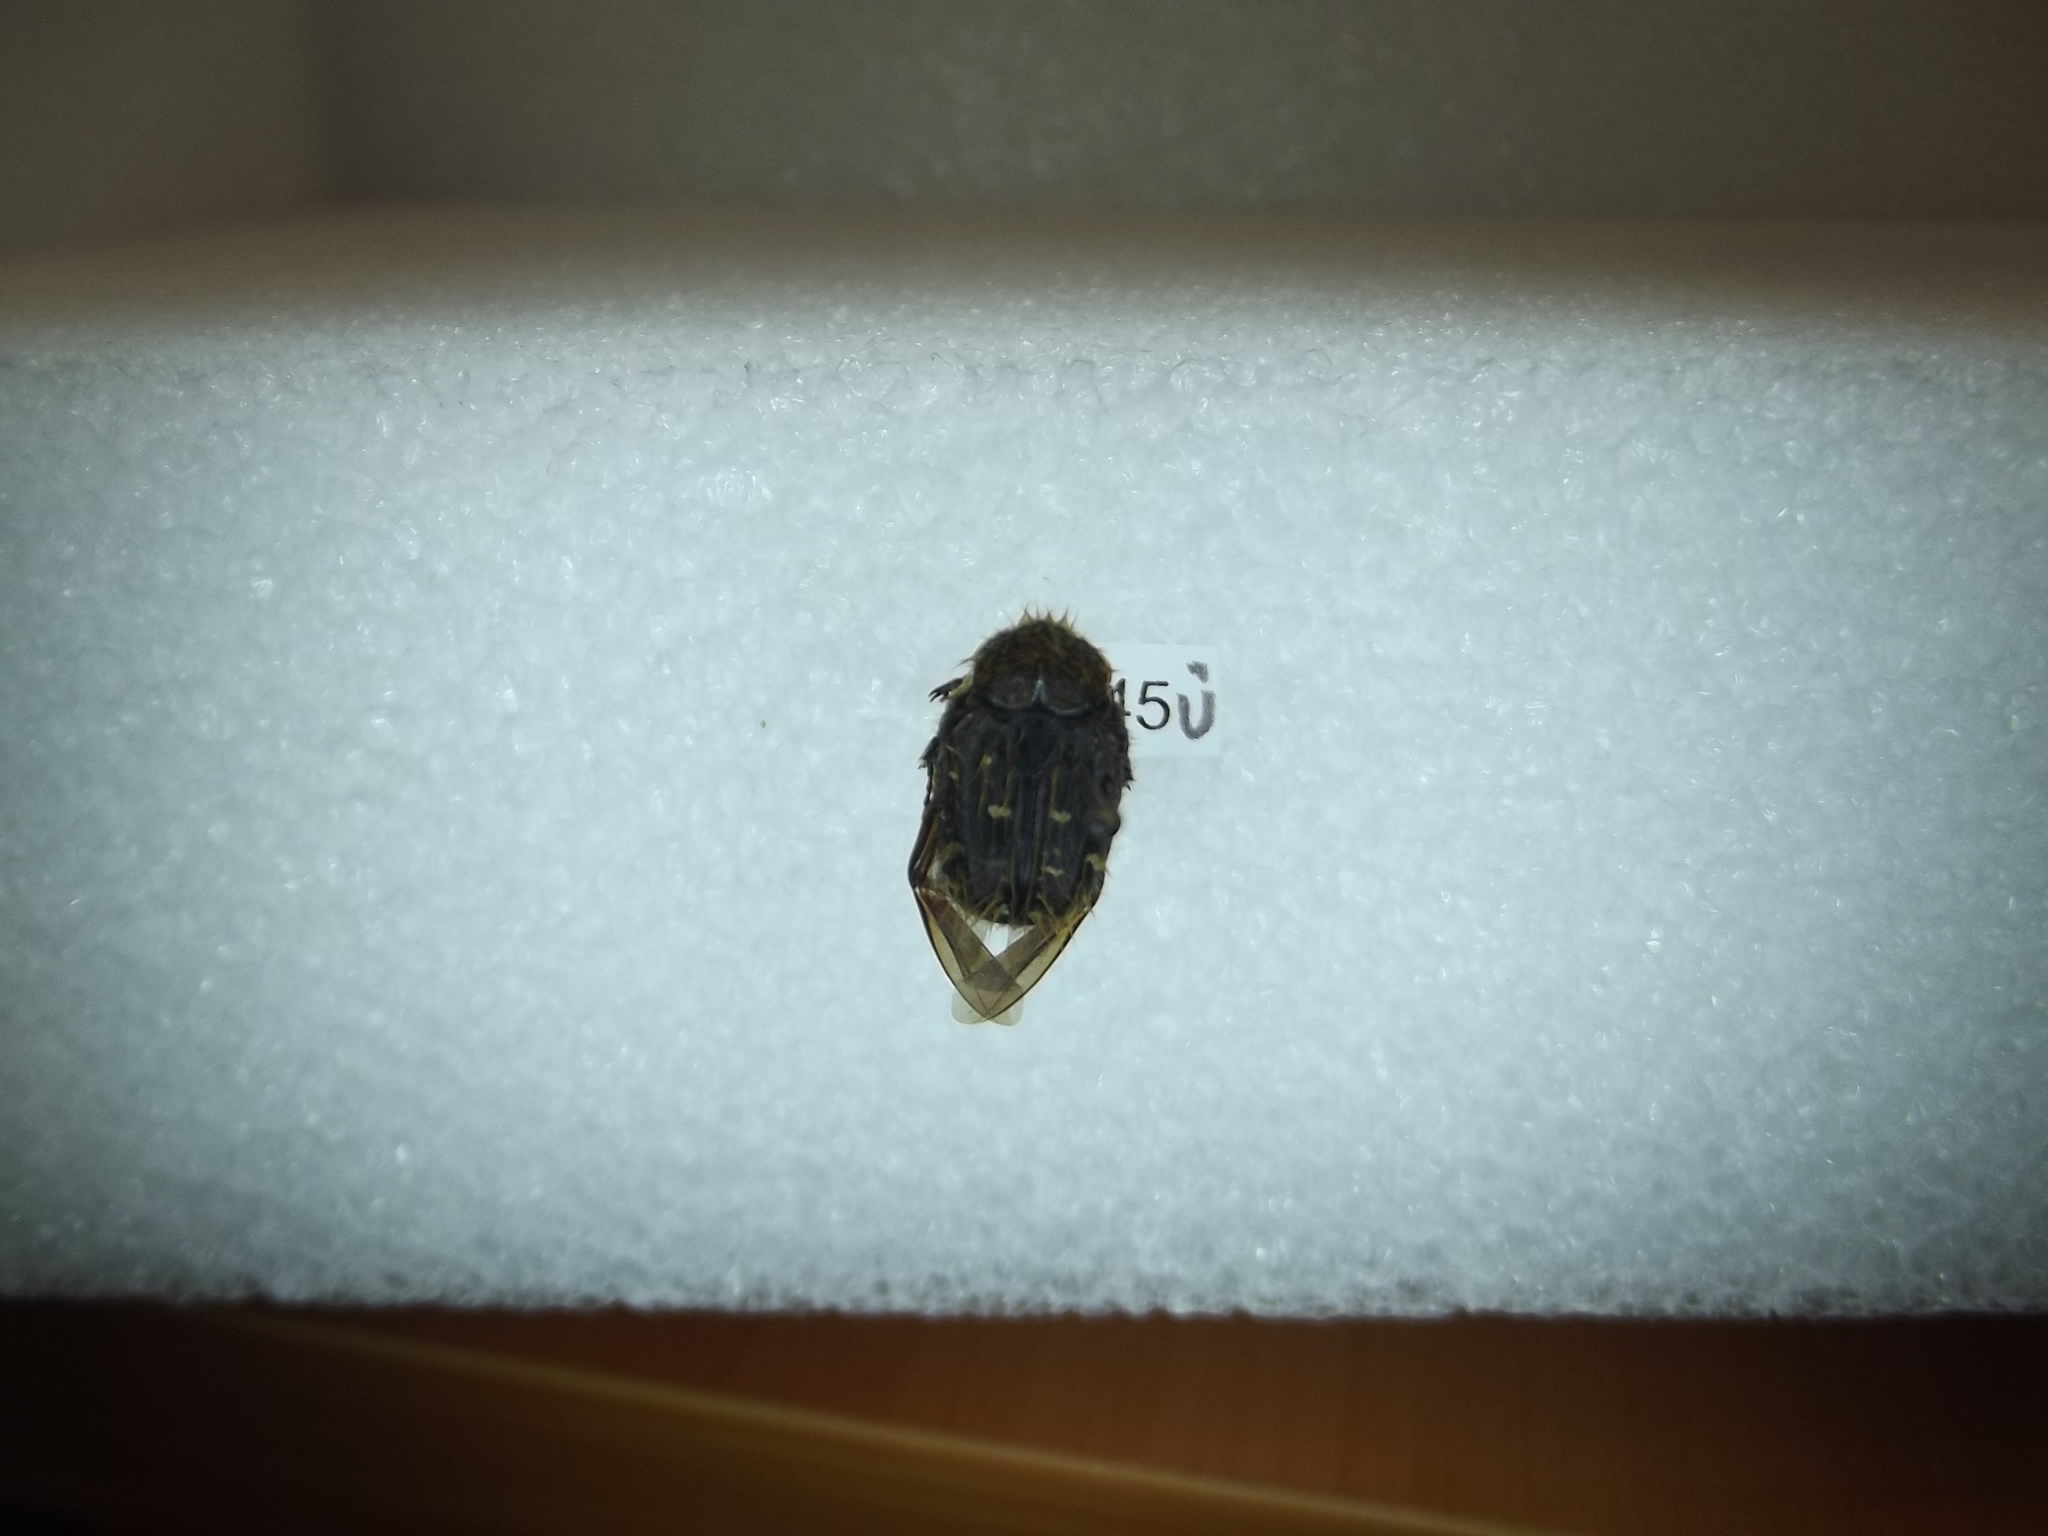Tropinota_hirta: (876, 611, 1190, 1033)
